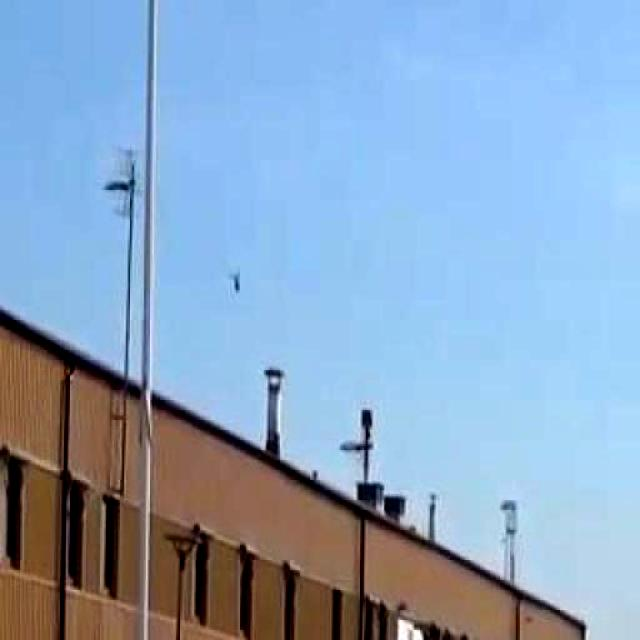drone: (221, 249, 259, 309)
